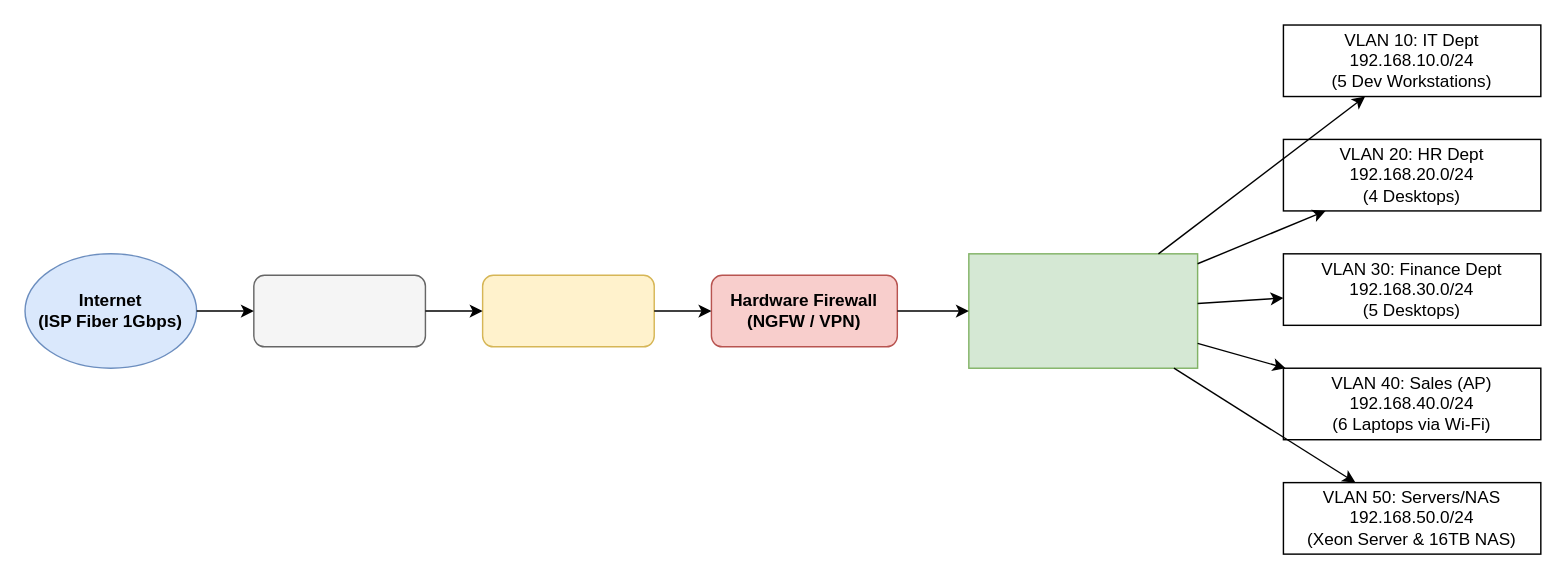
Image size: 1566x579. Some labels were removed from this diagram. Here are the shapes that lost their labels. From the top down, the centre of each, then its label:
At point 338,310: "ISP Fiber Modem (ONT)".
At point 567,310: "Enterprise Router (Multi-WAN)".
At point 1082,310: "48-Port Managed Switch (Core Switch)".
